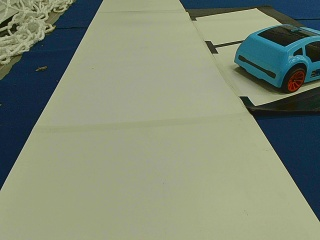car: (233, 23, 318, 91)
